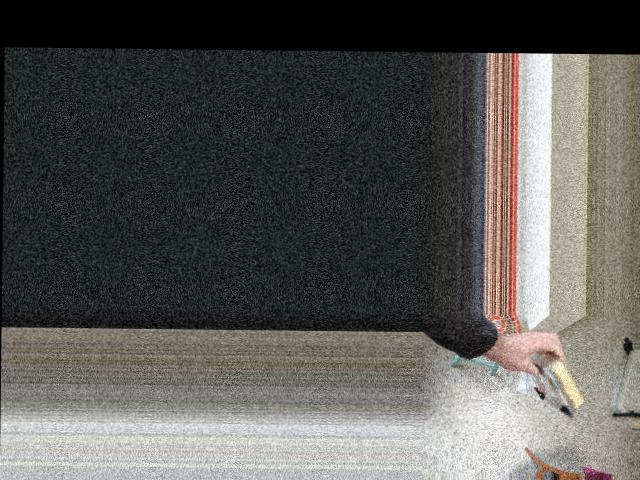cheese: (511, 321, 598, 430)
